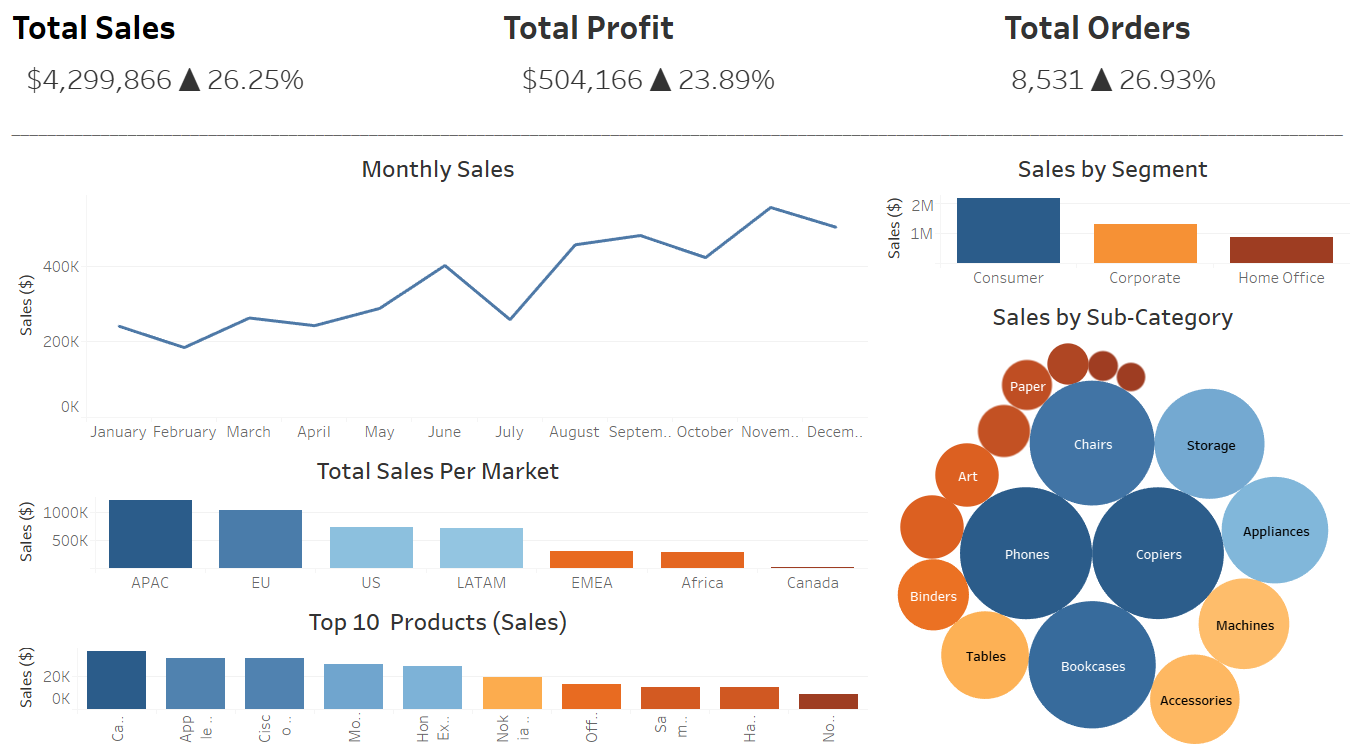

The dashboard page shown, as its layout file describes it:
{"tool":"tableau","page":{"name":"Summary_Dashboard","canvas":[1366,768],"ordinal":2},"visuals":[{"type":"worksheet","box":[0,0,1366,768]},{"type":"worksheet","param":"horz","box":[8,8,1350,752]},{"type":"worksheet","box":[8,8,1350,752]},{"type":"worksheet","title":"Total_Sales","mark":"Automatic","box":[8,8,491,116]},{"type":"worksheet","title":"Total_Profit","mark":"Automatic","box":[499,8,501,116]},{"type":"worksheet","title":"Orders_2014","mark":"Automatic","box":[1000,8,358,116]},{"type":"worksheet","box":[8,124,1350,32]},{"type":"worksheet","param":"horz","box":[8,156,1350,604]},{"type":"worksheet","param":"horz","box":[8,156,1350,604]},{"type":"worksheet","param":"horz","box":[8,156,1350,604]},{"type":"worksheet","param":"horz","box":[8,156,1350,604]},{"type":"worksheet","param":"horz","box":[8,156,1350,604]},{"type":"worksheet","param":"horz","box":[8,156,1350,604]},{"type":"worksheet","param":"horz","box":[8,156,1350,604]},{"type":"worksheet","box":[8,156,1350,604]},{"type":"worksheet","param":"horz","box":[8,156,868,604]},{"type":"worksheet","param":"horz","box":[8,156,868,604]},{"type":"worksheet","param":"horz","box":[8,156,868,604]},{"type":"worksheet","param":"horz","box":[8,156,868,604]},{"type":"worksheet","box":[8,156,868,604]},{"type":"worksheet","title":"Monthly_Sales","mark":"Automatic","rows":["Sales"],"cols":["Order Date"],"box":[8,156,868,302]},{"type":"worksheet","title":"Sales_by_Segment","mark":"Automatic","rows":["Sales"],"cols":["Segment"],"box":[876,156,482,147.8]},{"type":"worksheet","title":"Sales_by_Sub-Category","mark":"Circle","box":[876,303.8,482,456.2]},{"type":"worksheet","title":"Sales_Per_Market","mark":"Automatic","rows":["Sales"],"cols":["Market"],"box":[8,458,868,151]},{"type":"worksheet","title":"Top_30_Products_Sales","mark":"Automatic","rows":["Sales"],"cols":["Product Name"],"box":[8,609,868,151]}]}

Visuals, with their boxes in screenshot pixels (x1, y1, x2, y2), scaled from the page's 1366x768 canvas onto the 1357x754 screenshot:
worksheet: detection(0, 0, 1356, 753)
worksheet: detection(8, 8, 1349, 746)
worksheet: detection(8, 8, 1349, 746)
"Total_Sales" worksheet: detection(8, 8, 496, 122)
"Total_Profit" worksheet: detection(496, 8, 993, 122)
"Orders_2014" worksheet: detection(993, 8, 1349, 122)
worksheet: detection(8, 122, 1349, 153)
worksheet: detection(8, 153, 1349, 746)
worksheet: detection(8, 153, 1349, 746)
worksheet: detection(8, 153, 1349, 746)
worksheet: detection(8, 153, 1349, 746)
worksheet: detection(8, 153, 1349, 746)
worksheet: detection(8, 153, 1349, 746)
worksheet: detection(8, 153, 1349, 746)
worksheet: detection(8, 153, 1349, 746)
worksheet: detection(8, 153, 870, 746)
worksheet: detection(8, 153, 870, 746)
worksheet: detection(8, 153, 870, 746)
worksheet: detection(8, 153, 870, 746)
worksheet: detection(8, 153, 870, 746)
"Monthly_Sales" worksheet: detection(8, 153, 870, 450)
"Sales_by_Segment" worksheet: detection(870, 153, 1349, 298)
"Sales_by_Sub-Category" worksheet (Circle marks): detection(870, 298, 1349, 746)
"Sales_Per_Market" worksheet: detection(8, 450, 870, 598)
"Top_30_Products_Sales" worksheet: detection(8, 598, 870, 746)
